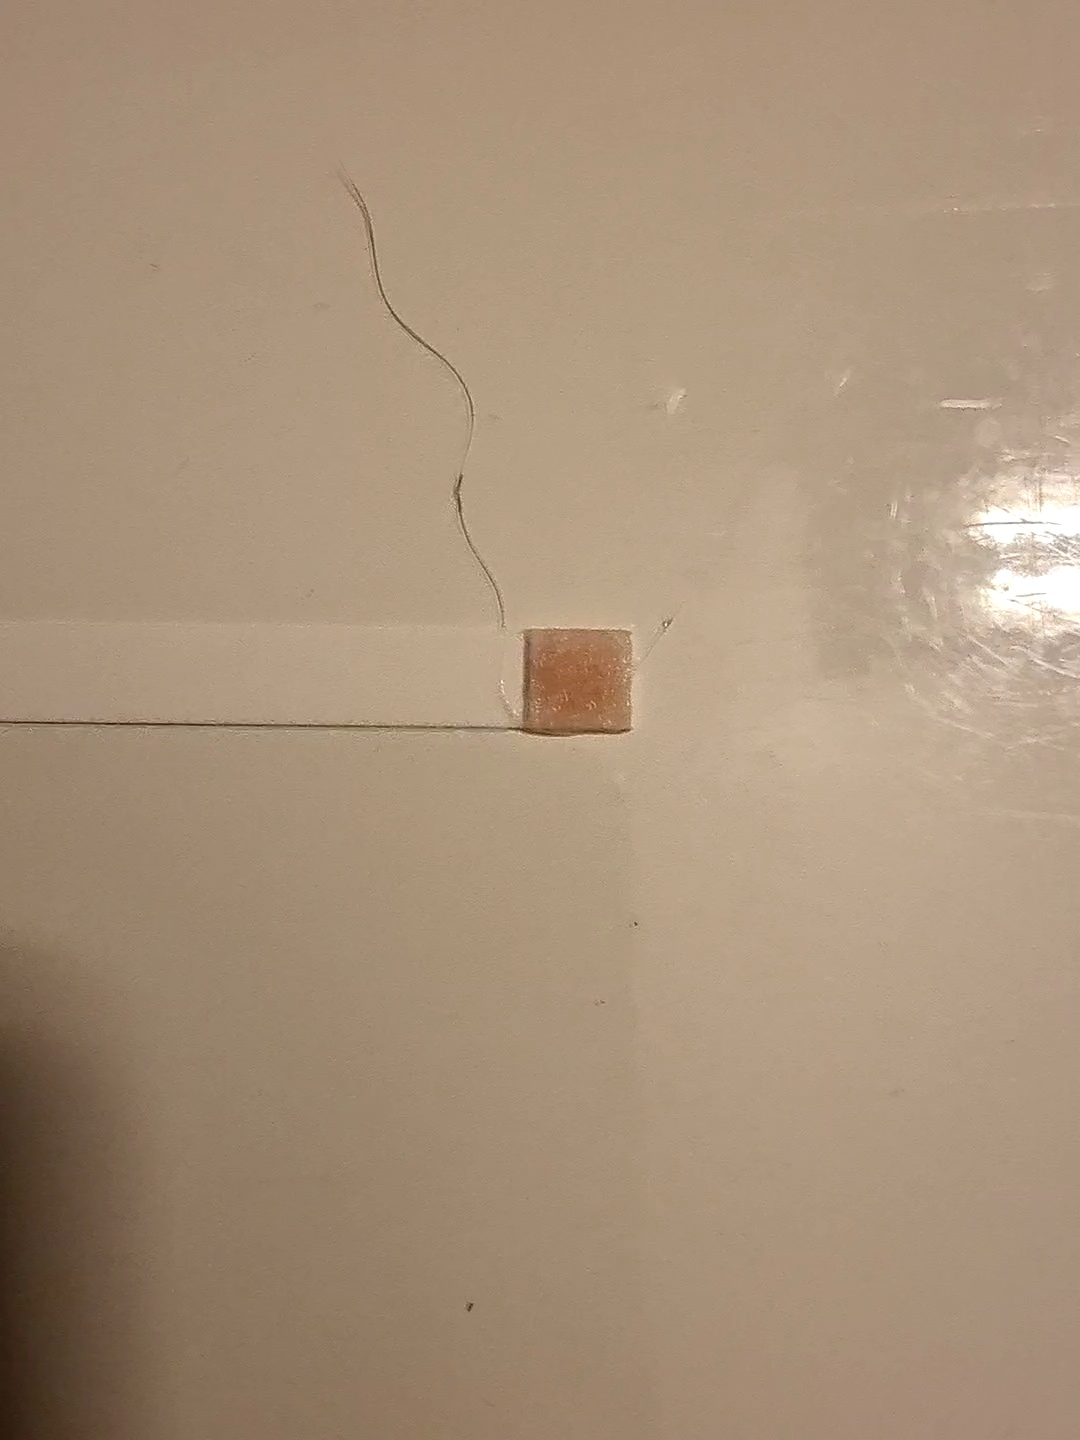keto-tip: (516, 624, 644, 743)
